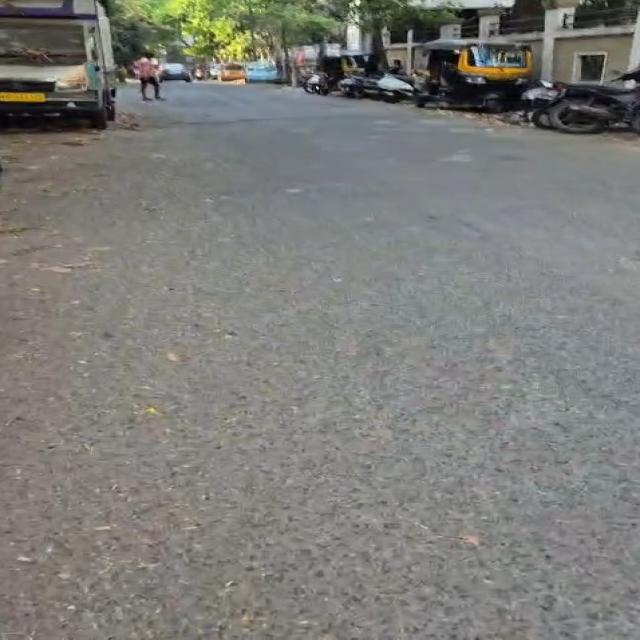obstacle: (0, 0, 116, 128), (172, 0, 336, 60), (335, 0, 456, 68), (102, 0, 175, 65), (371, 19, 388, 70)
person: (134, 52, 162, 101)
vehical: (547, 84, 639, 134), (339, 73, 415, 102), (519, 80, 562, 129)
